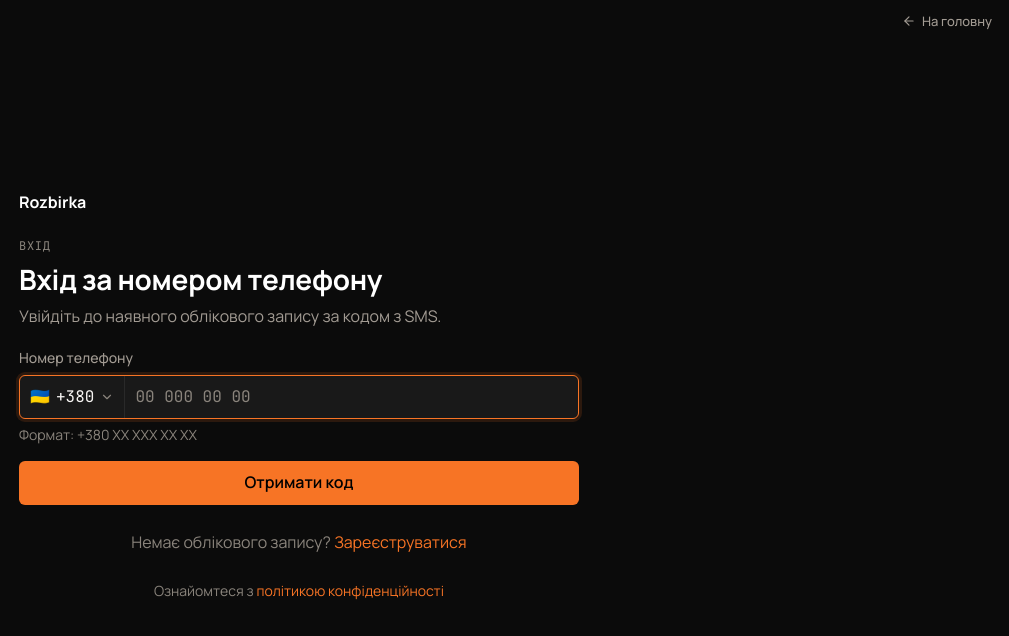
Scenario: disables OTP resend during backend cooldown and applies retryAfterSeconds
Type "501112233" into the field labelled "Номер телефону" at coordinates (352, 396), box [125,376,578,418]
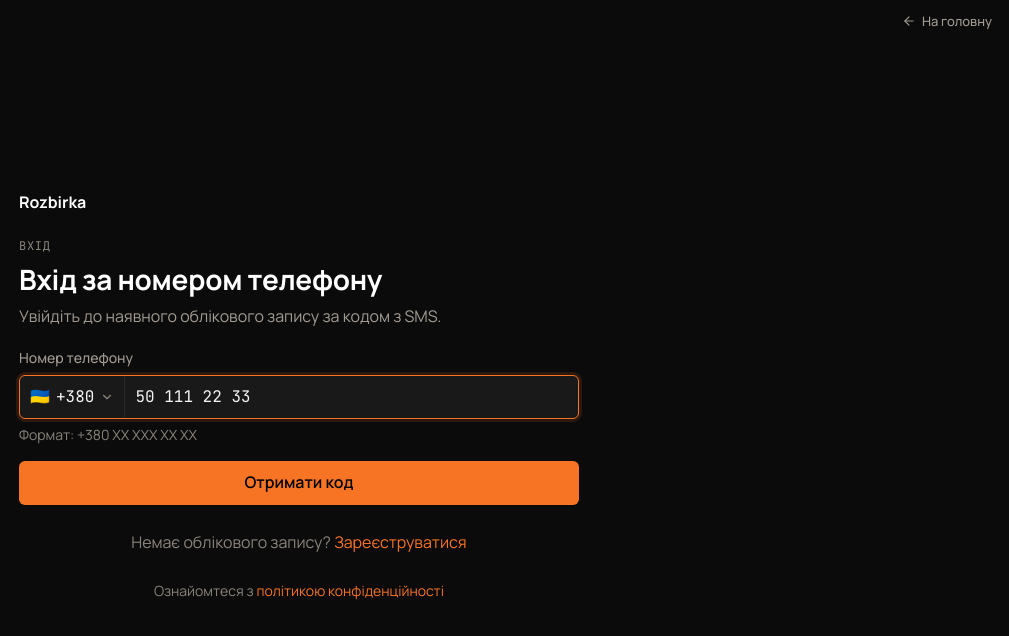
Click the button "Отримати код" at coordinates (299, 483), box [19,461,579,505]
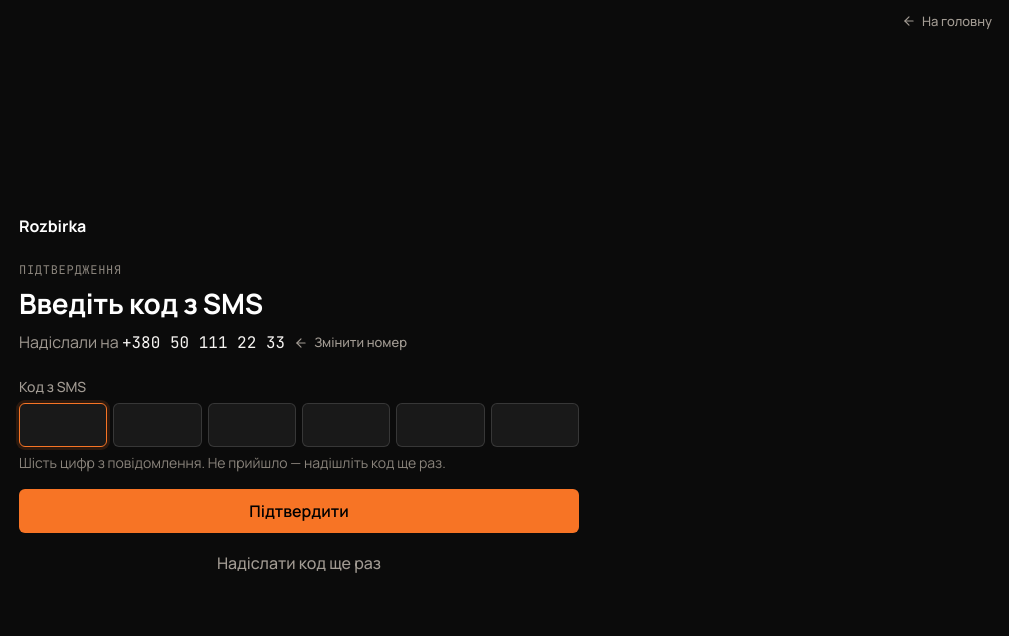
Check: the field named "Цифра 1" is shown, box [19,403,107,447]
Click the button "Надіслати код ще раз" at coordinates (299, 563), box [19,549,579,577]
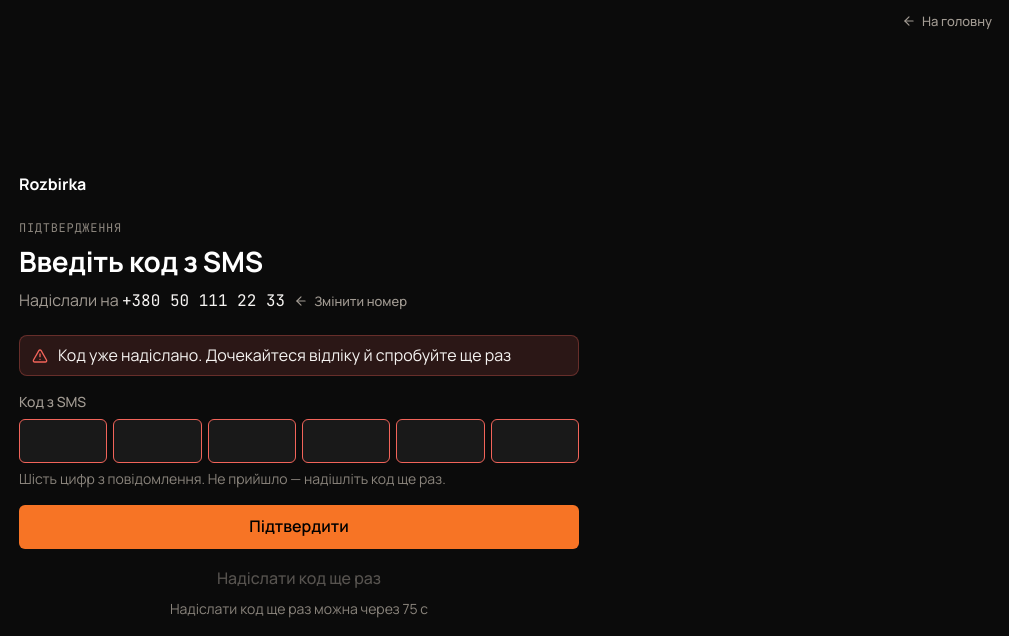
Check: the button "Надіслати код ще раз" is disabled, box [19,565,579,593]
Check: the text "Надіслати код ще раз можна через 75 с" is shown, box [170,599,428,619]
